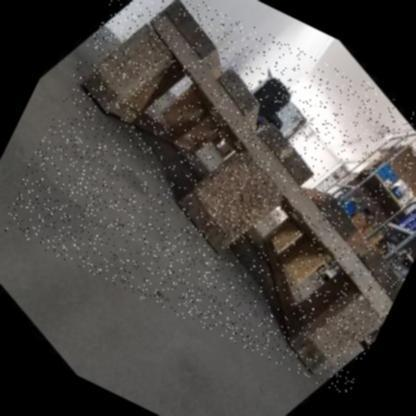pallet: (75, 2, 396, 392)
